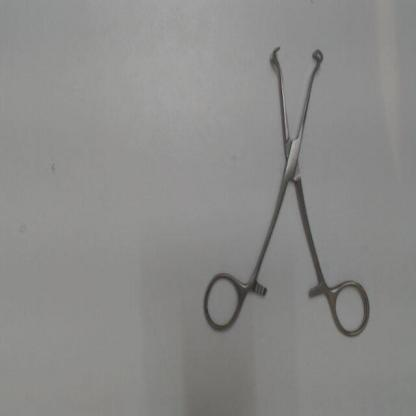Babcock Tissue Forceps: (199, 35, 378, 342)
